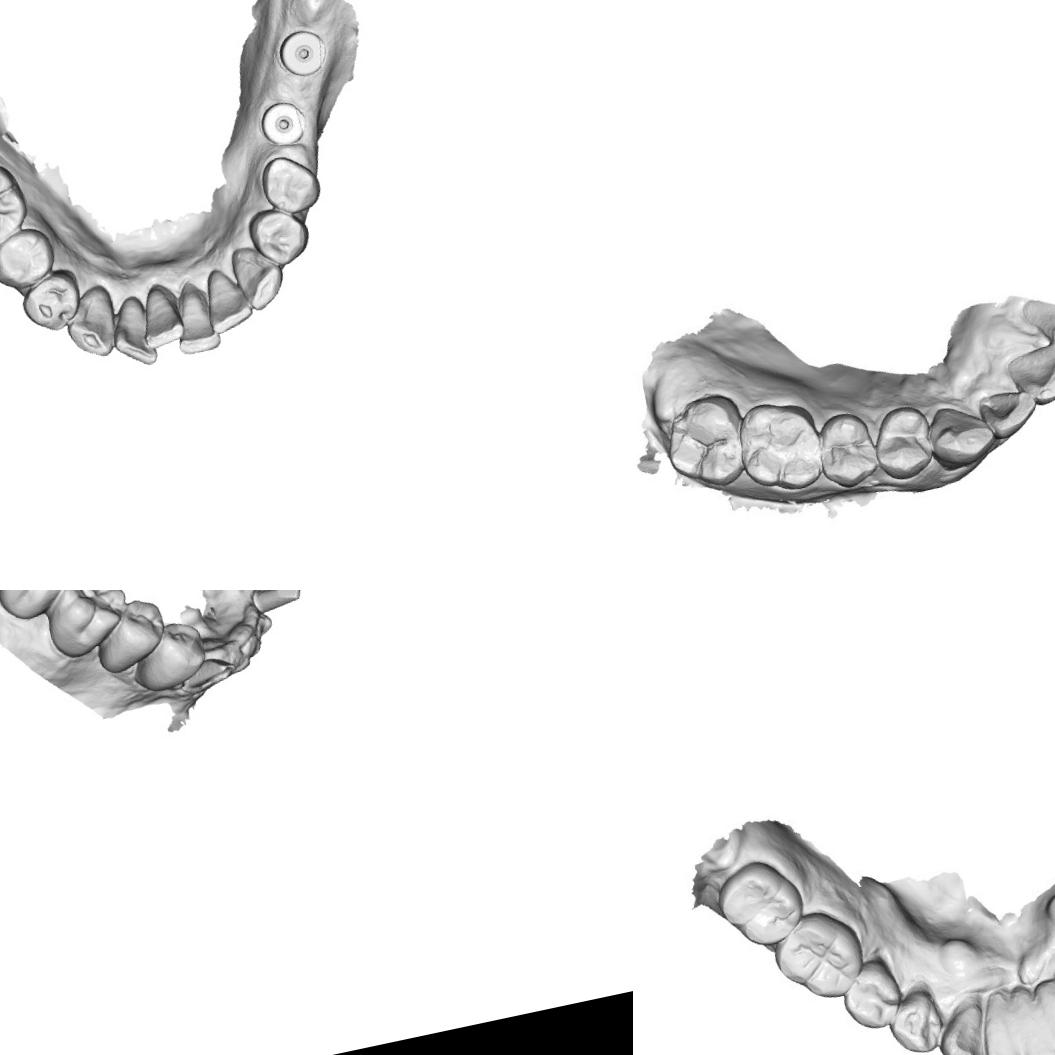abutment: (180, 652, 238, 692), (248, 590, 305, 616)
canine: (926, 398, 998, 470), (60, 285, 121, 362), (226, 240, 288, 314), (931, 996, 995, 1055)
implant: (274, 25, 330, 80), (256, 98, 308, 149)
incisor: (194, 258, 258, 338), (164, 283, 228, 358), (970, 985, 1031, 1055), (106, 296, 162, 372), (132, 280, 188, 350), (1005, 978, 1055, 1055), (980, 384, 1042, 442), (1007, 341, 1055, 410), (1035, 971, 1055, 1055)
molar: (770, 914, 866, 1004), (712, 860, 805, 952), (661, 395, 748, 484), (736, 398, 820, 490), (37, 590, 136, 663), (0, 156, 33, 252), (0, 590, 78, 625)
premolar: (124, 616, 212, 697), (88, 594, 173, 677), (814, 408, 883, 487), (252, 148, 326, 221), (16, 268, 85, 340), (834, 961, 906, 1030), (867, 406, 934, 480), (245, 201, 314, 272), (886, 986, 949, 1055), (0, 224, 57, 293)
